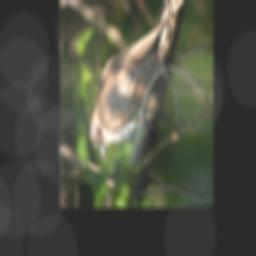Cuckoo: (87, 0, 206, 167)
